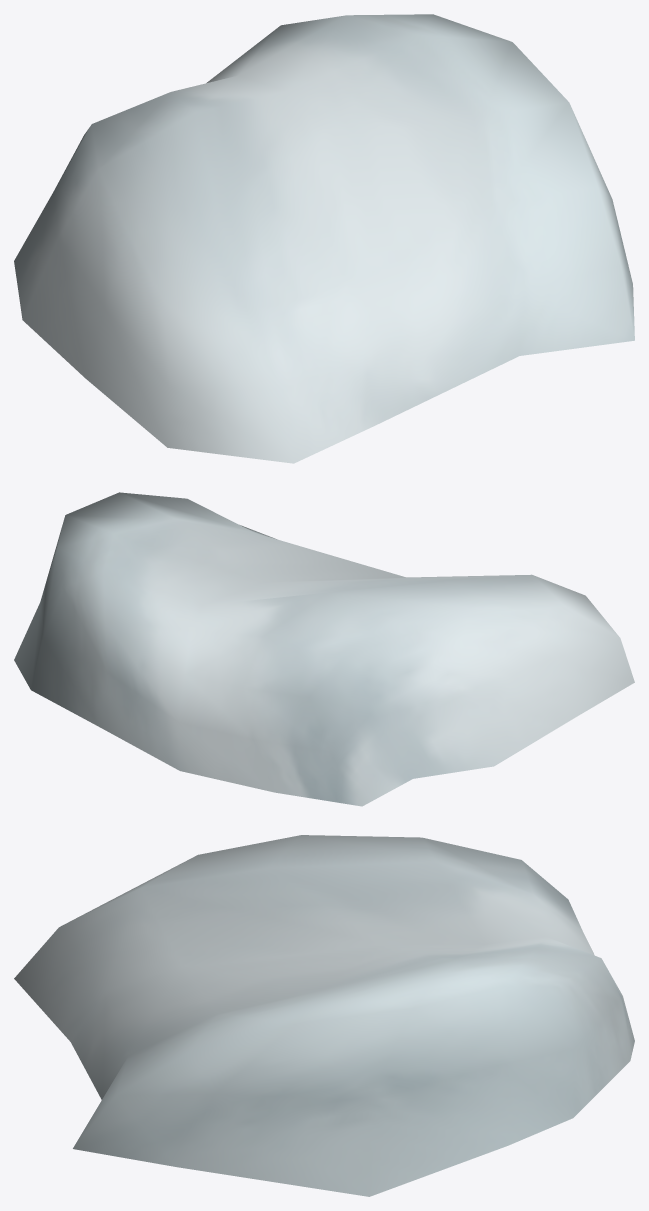
The model's file is Neve4.fbx.
The picture shows the model from 3 angles, top to bottom: view 1: azimuth 30°, elevation 25°; view 2: azimuth 150°, elevation 25°; view 3: azimuth 270°, elevation 25°; orthographic projection. The views are drawn at different scales.
Visible parts, largest first — view 1: Neve4; view 2: Neve4; view 3: Neve4.
Boxes of the visible parts, bbox=[...] form: Neve4: bbox=[14, 14, 634, 463]; Neve4: bbox=[14, 492, 634, 806]; Neve4: bbox=[14, 835, 634, 1196].
Size of the model in its own units: 438 by 429 by 149.
